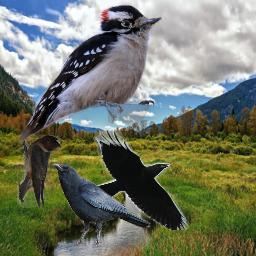Crow: (90, 128, 189, 230), (51, 163, 151, 247)
Swallow: (17, 135, 61, 208)
Woodpecker: (20, 5, 163, 144)
